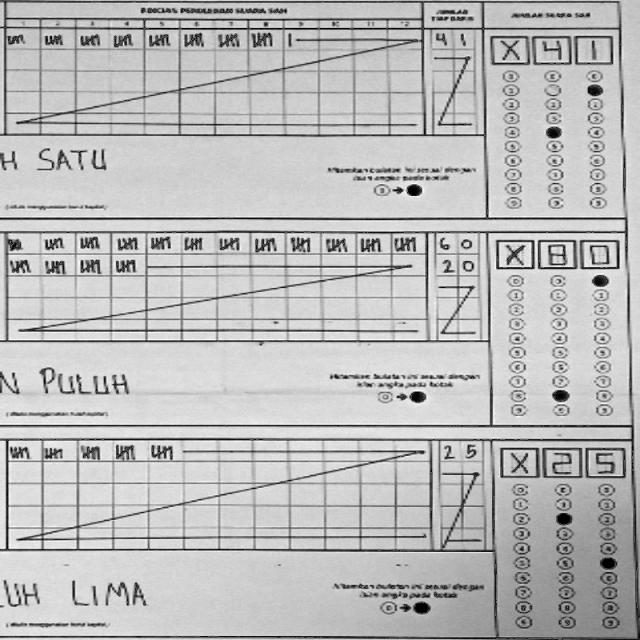Suara: (492, 235, 622, 272), (487, 31, 616, 68), (498, 443, 626, 480)
